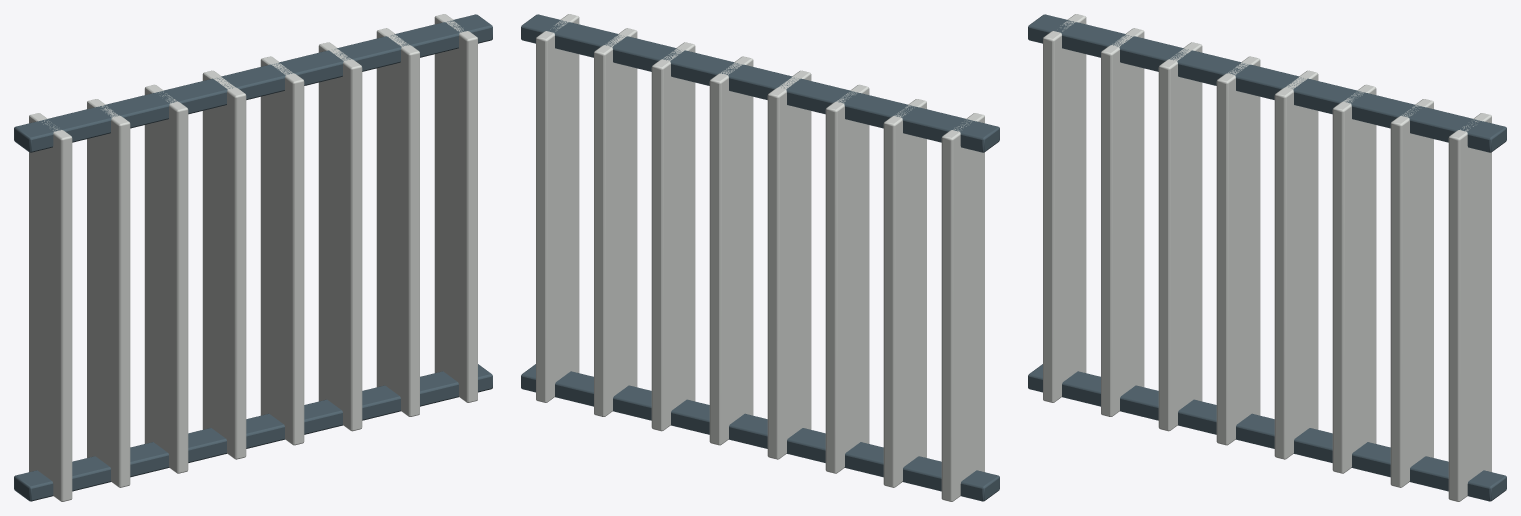
The model's file is MOD_Brise_Vertical_01.glb.
3 views of the same model, side by side, from view 1: azimuth 30°, elevation 25°; view 2: azimuth 150°, elevation 25°; view 3: azimuth 330°, elevation 25° (orthographic).
Visible parts, largest first — view 1: MOD_Brise_Vertical_01; view 2: MOD_Brise_Vertical_01; view 3: MOD_Brise_Vertical_01.
Part boxes in pixels (x1,y1,x2,y2): MOD_Brise_Vertical_01: (14, 14, 492, 501); MOD_Brise_Vertical_01: (521, 14, 999, 501); MOD_Brise_Vertical_01: (1028, 14, 1506, 501).
Size of the model in its own units: 4 by 3 by 0.5.
